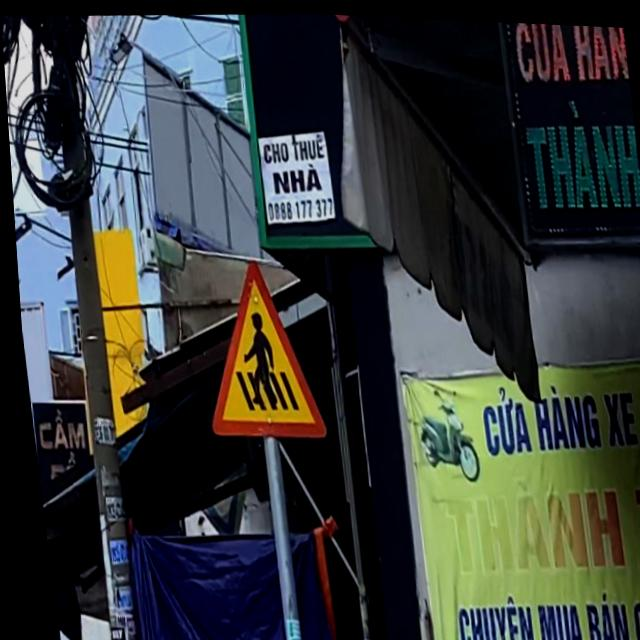Nguoi di bo cat ngang: (187, 252, 324, 442)
